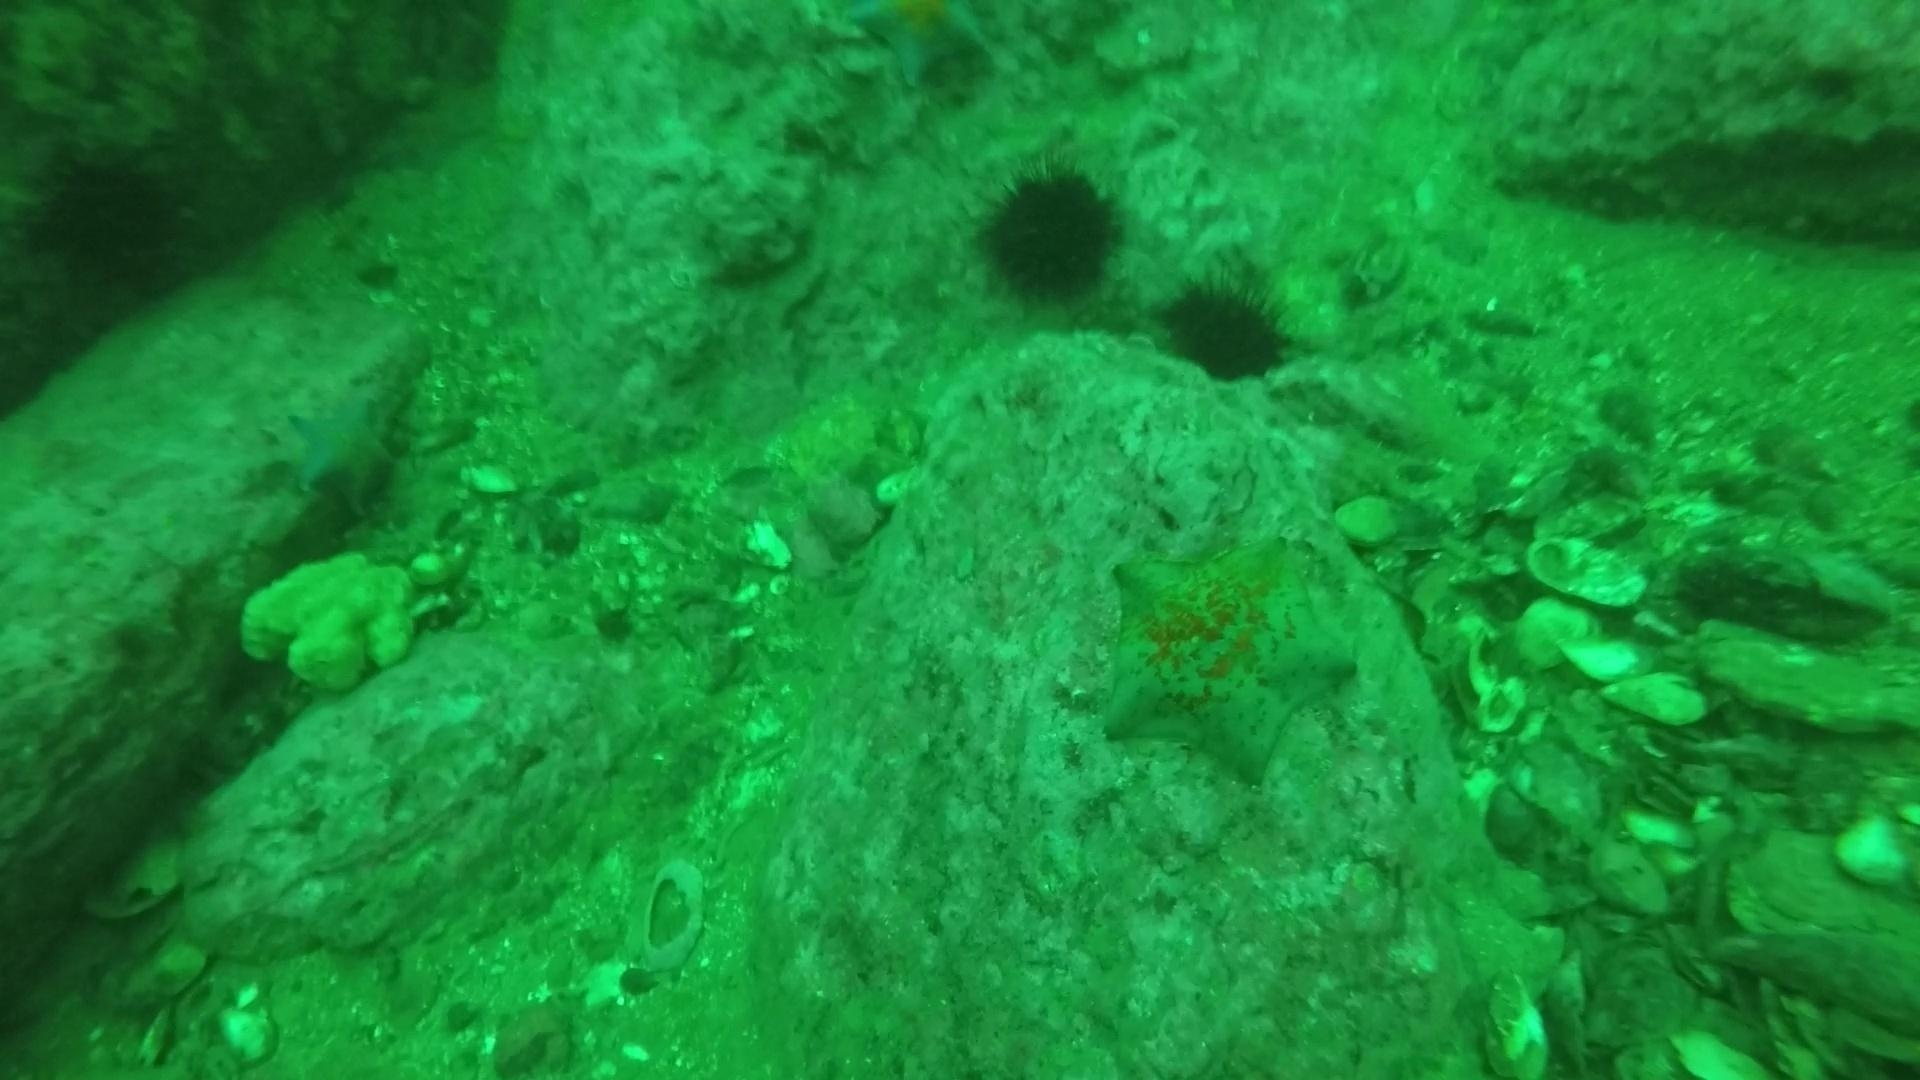echinus: (22, 138, 191, 291), (969, 156, 1131, 309), (1153, 270, 1299, 386)
starfish: (1087, 525, 1369, 787), (280, 381, 407, 516), (833, 1, 1001, 94)
